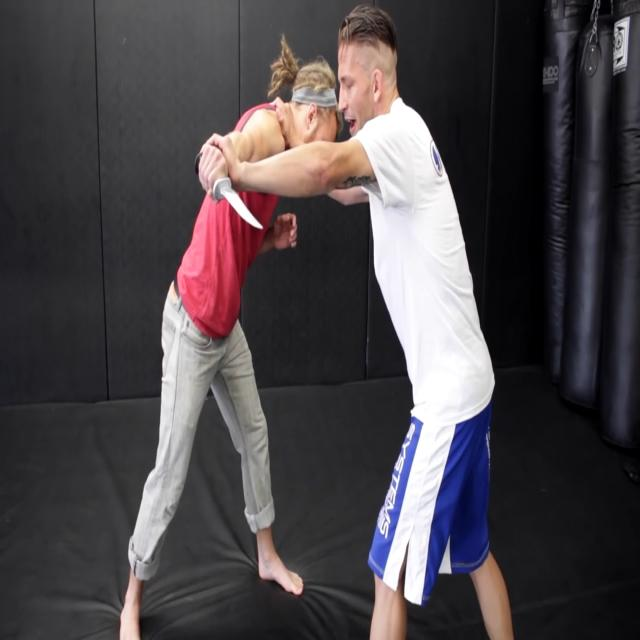knife: (215, 178, 266, 238)
